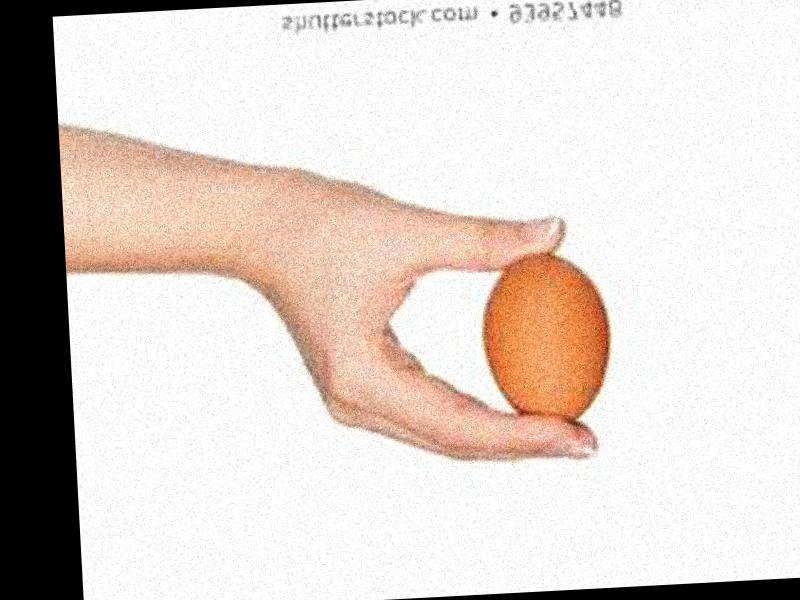Eggs: (481, 249, 614, 435)
